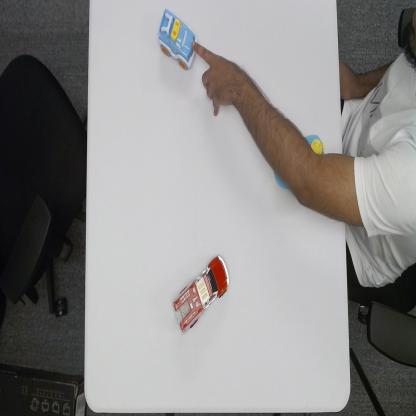Arm: (246, 79, 340, 221)
Boat: (269, 133, 326, 189)
Car: (158, 8, 198, 70)
Firetruck: (168, 255, 230, 334)
Hand: (191, 39, 245, 116)
